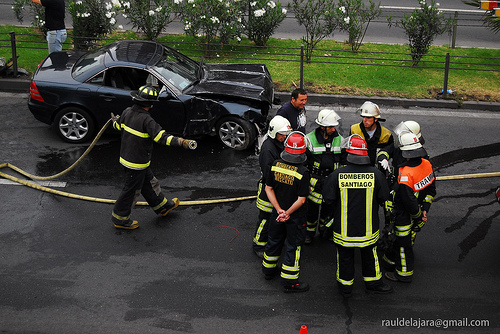helmet: (264, 116, 290, 135), (286, 134, 311, 153), (345, 140, 370, 155), (132, 87, 159, 100), (398, 135, 423, 149), (318, 109, 338, 126), (398, 121, 421, 134), (359, 105, 382, 117)
